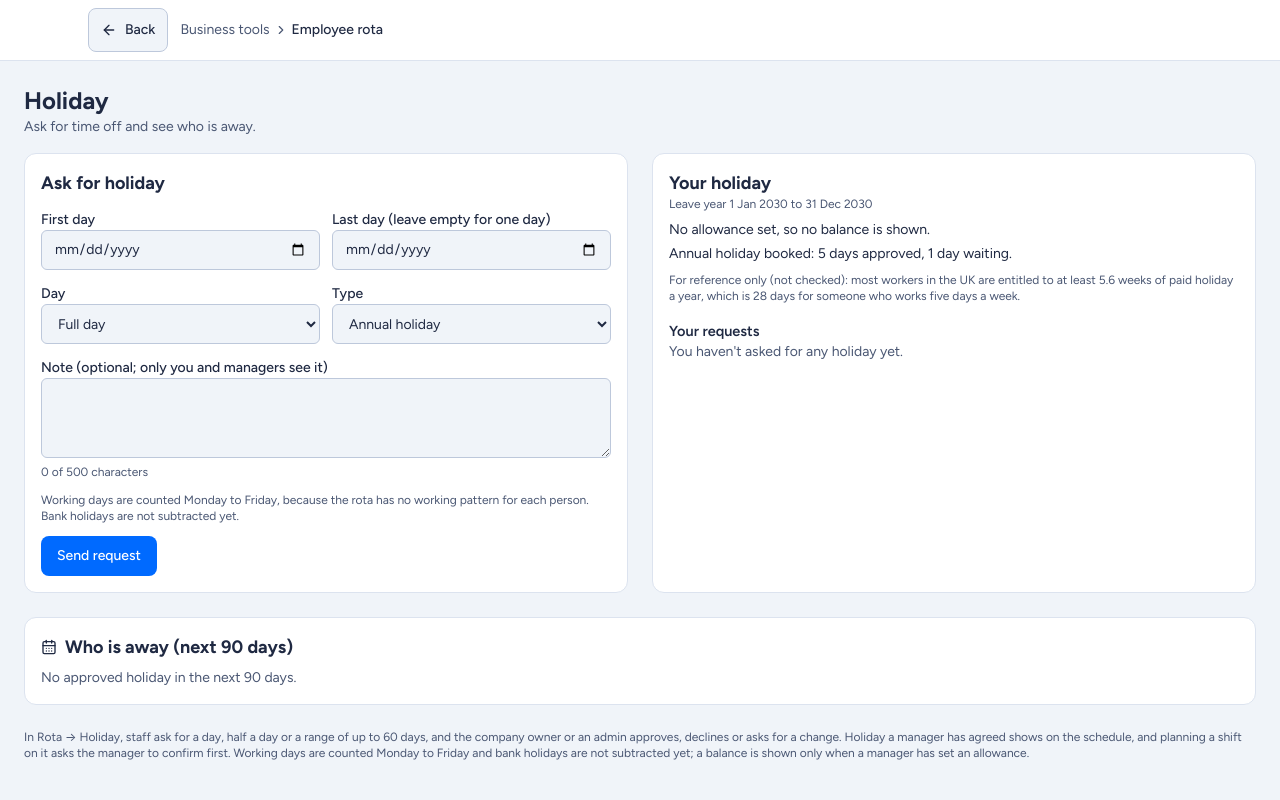
Rota → Holiday (Phase 32) › a past start date is refused before sending (staff)
The image size is (1280, 800).
Type "2001-01-01" into the date field labelled "First day".
click(180, 250); type("2001-01-01")  # box [41,230,320,270]
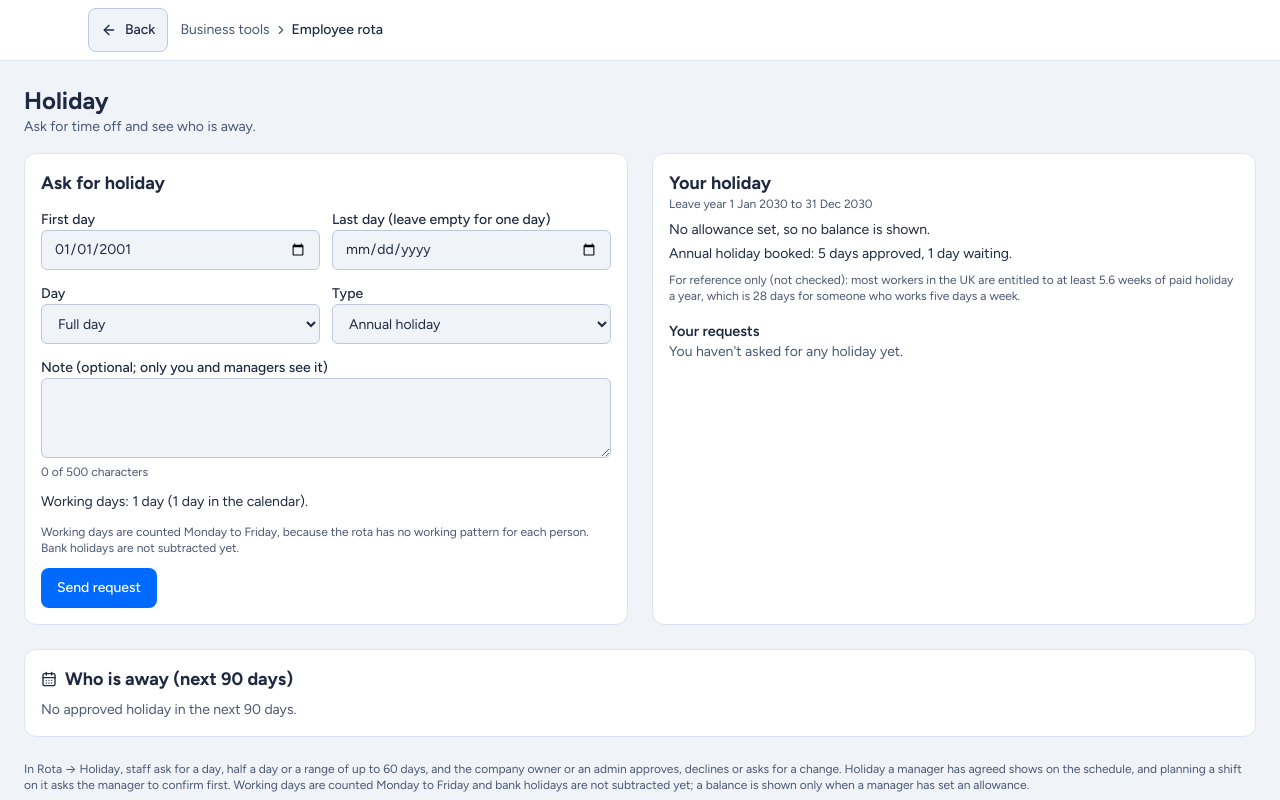
Submit the form "Ask for holiday", box [24,153,628,625]
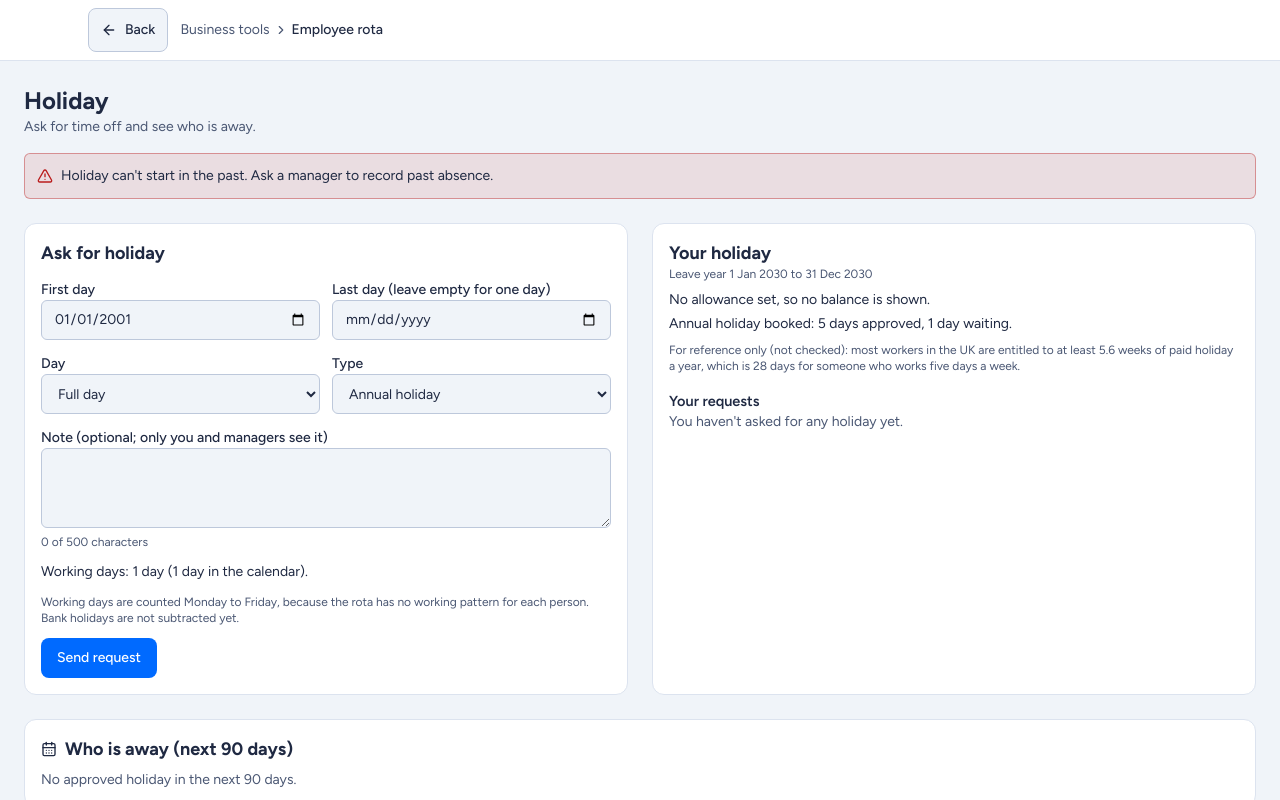
Check: the message shows "Holiday can't start in the past", box [61,167,493,184]
